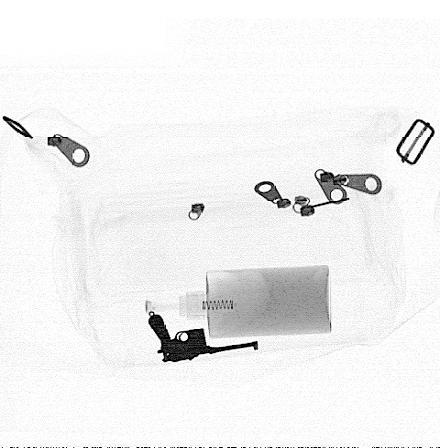Gun: (148, 313, 259, 361)
